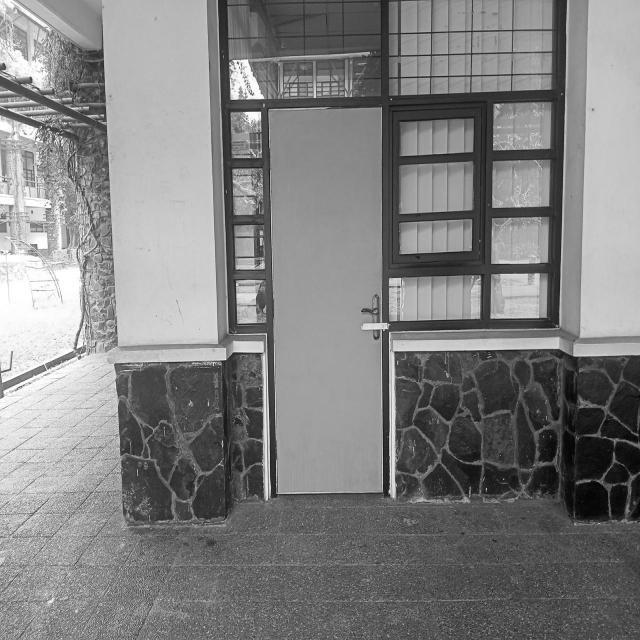door: (260, 97, 393, 502)
